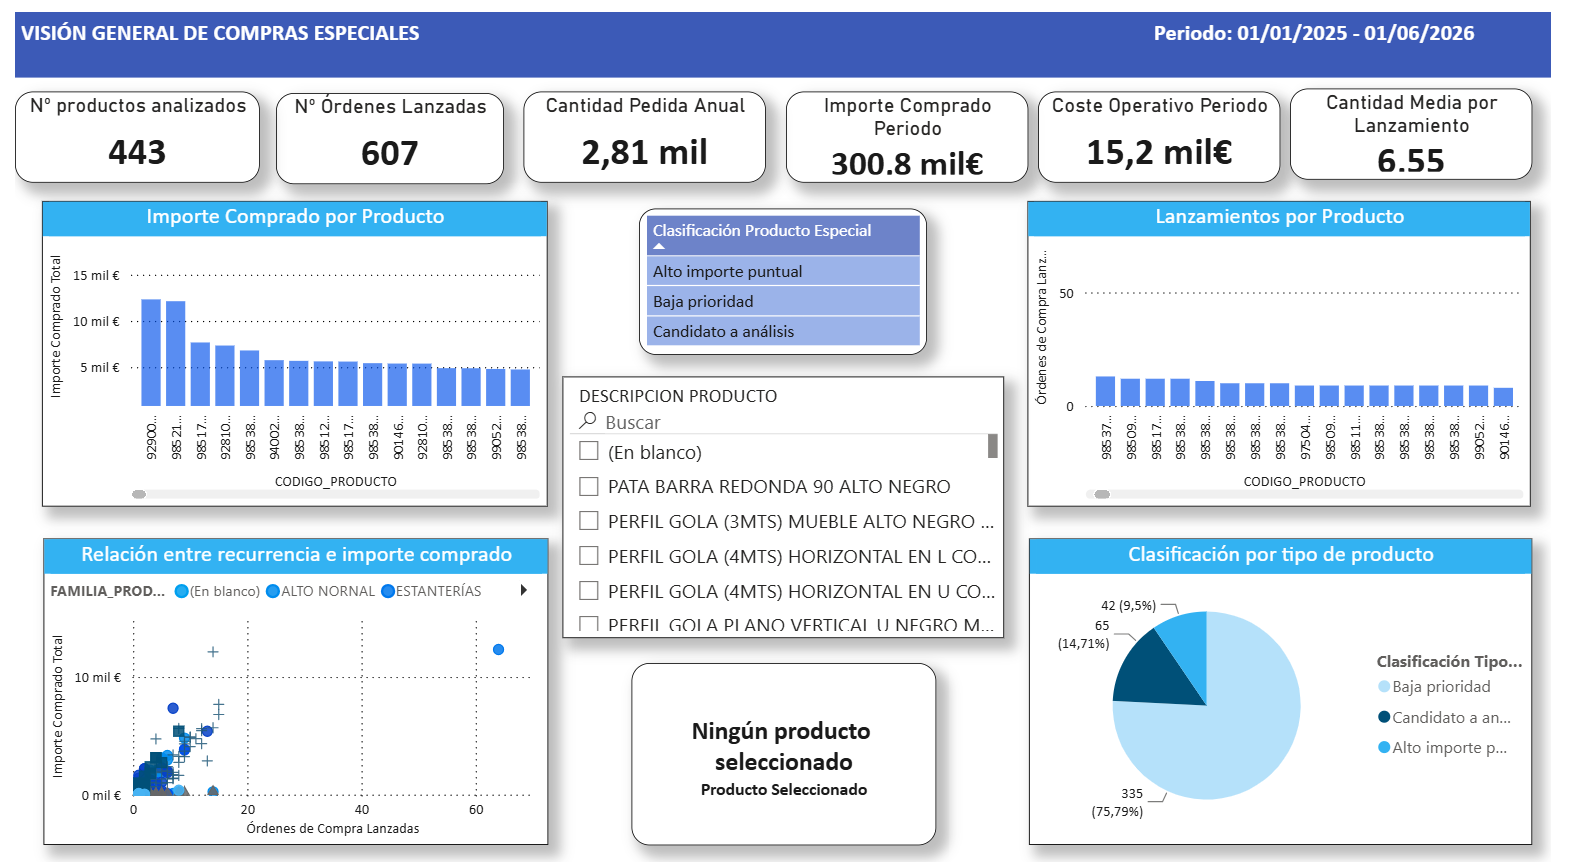

What the dashboard file says about the page in this screenshot:
{"tool":"powerbi","page":{"name":"Visión General de Compras Especiales","canvas":[1280,720],"ordinal":0},"visuals":[{"type":"card","title":"Nº Órdenes Lanzadas","fields":{"Values":["FACT_VENTAS.Nº Lanzamientos Producto"]},"box":[218,68,190,76],"z":0},{"type":"card","title":"Importe Comprado Periodo","fields":{"Values":["FACT_VENTAS.Coste Total Producto"]},"box":[642,66,202,76],"z":1000},{"type":"card","title":"Nº productos analizados ","fields":{"Values":["FACT_VENTAS.Nº Productos Analizados"]},"box":[0,66,204,76],"z":2000},{"type":"card","title":"Coste Operativo Periodo","fields":{"Values":["FACT_VENTAS.Coste Operativo Total Lanzamiento"]},"box":[852,66,202,76],"z":3000},{"type":"clusteredColumnChart","title":"Importe Comprado por Producto","fields":{"Y":["FACT_VENTAS.Importe Comprado Total"],"Category":["PRODUCTOS_COMPLETOS.CODIGO_PRODUCTO"]},"box":[22.8,158,421.2,254.5],"z":4000},{"type":"card","fields":{"Values":["PRODUCTOS_COMPLETOS.Producto Seleccionado"]},"box":[514,542,254,152],"z":5000},{"type":"clusteredColumnChart","title":"Lanzamientos por Producto","fields":{"Category":["PRODUCTOS_COMPLETOS.CODIGO_PRODUCTO"],"Y":["FACT_VENTAS.Nº Lanzamientos Producto"]},"box":[844.2,158,419.5,254.5],"z":6000},{"type":"card","title":"Cantidad Media por Lanzamiento","fields":{"Values":["FACT_VENTAS.Cantidad Media por Lanzamiento"]},"box":[1062,64,202,76],"z":7000},{"type":"scatterChart","title":"Relación entre recurrencia e importe comprado","fields":{"X":["FACT_VENTAS.Nº Lanzamientos Producto"],"Y":["FACT_VENTAS.Importe Comprado Total"],"Category":["FACT_VENTAS.CODIGO_PRODUCTO"],"Series":["FAMILIA_PRODUCTOS.FAMILIA_PRODUCTO"]},"box":[23.2,439,420.7,255.1],"z":8000},{"type":"pieChart","title":"Clasificación por tipo de producto","fields":{"Category":["PRODUCTOS_COMPLETOS.Clasificación Producto Especial"],"Y":["CountNonNull(PRODUCTOS_COMPLETOS.CODIGO_PRODUCTO)"],"Series":["PRODUCTOS_COMPLETOS.Clasificación Producto Especial"]},"box":[844.8,439,419.1,255.1],"z":9000},{"type":"textbox","box":[0,0,1280.5,54.7],"z":10000},{"type":"tableEx","fields":{"Values":["PRODUCTOS_COMPLETOS.Clasificación Producto Especial"]},"box":[520,164,240,122],"z":11000},{"type":"slicer","fields":{"Values":["PRODUCTOS_COMPLETOS.DESCRIPCION_PRODUCTO"]},"box":[456,304,368,218],"z":12000},{"type":"card","title":"Cantidad Pedida Anual","fields":{"Values":["POLITICA_COMPRA.Cantidad Pedida Anual Producto"]},"box":[424,66,202,76],"z":13000}]}

Visuals, with their boxes in screenshot pixels (x1, y1, x2, y2), scaled from the page's 1280x720 canvas onto the 1569x862 screenshot:
"Nº Órdenes Lanzadas" card: box=[267, 81, 500, 172]
"Importe Comprado Periodo" card: box=[787, 79, 1035, 170]
"Nº productos analizados " card: box=[0, 79, 250, 170]
"Coste Operativo Periodo" card: box=[1044, 79, 1292, 170]
"Importe Comprado por Producto" clusteredColumnChart: box=[28, 189, 544, 494]
card - PRODUCTOS_COMPLETOS.Producto Seleccionado: box=[630, 649, 941, 831]
"Lanzamientos por Producto" clusteredColumnChart: box=[1035, 189, 1549, 494]
"Cantidad Media por Lanzamiento" card: box=[1302, 77, 1549, 168]
"Relación entre recurrencia e importe comprado" scatterChart: box=[28, 526, 544, 831]
"Clasificación por tipo de producto" pieChart: box=[1036, 526, 1549, 831]
textbox: box=[0, 0, 1568, 65]
tableEx - PRODUCTOS_COMPLETOS.Clasificación Producto Especial: box=[637, 196, 932, 342]
slicer - PRODUCTOS_COMPLETOS.DESCRIPCION_PRODUCTO: box=[559, 364, 1010, 625]
"Cantidad Pedida Anual" card: box=[520, 79, 767, 170]
